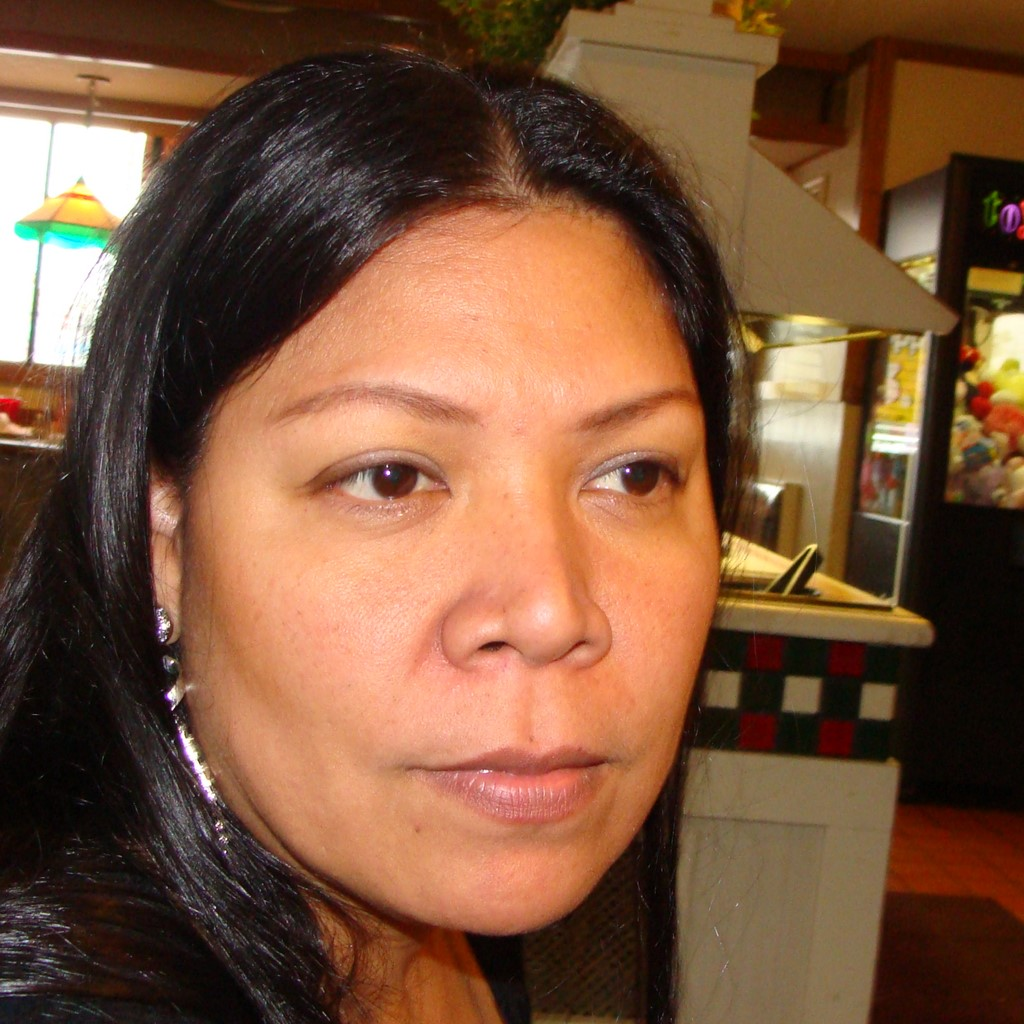sin_mascara: (146, 90, 717, 936)
